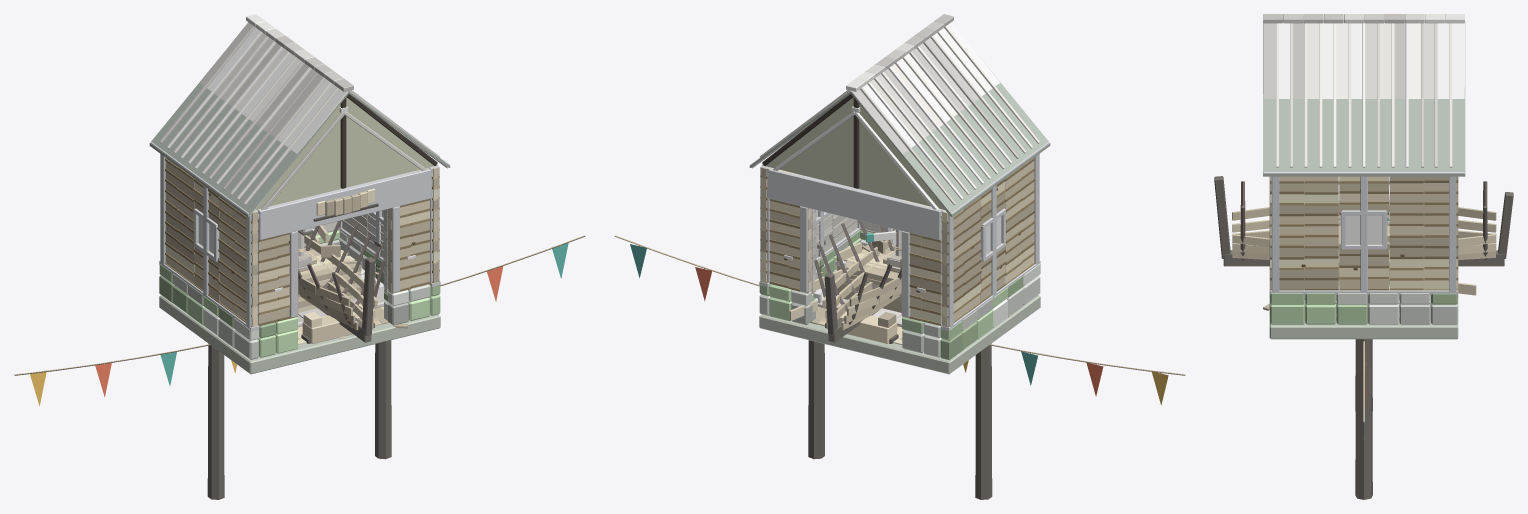
Rendered from kit.glb.
The picture shows the model from 3 angles, left to right: view 1: azimuth 30°, elevation 25°; view 2: azimuth 150°, elevation 25°; view 3: azimuth 270°, elevation 25°; orthographic projection. The views are drawn at different scales.
Parts seen in each view (by area): view 1: timber_shed_roof__tar_roof, timber_shed_roof__bleached_wood, timber_shed_wall_west__raw_plank, timber_shed_base__watch_stone, timber_shed_roof__raw_plank, timber_shed_wall_front__raw_plank, timber_shed_wall_front__pitch_black, pier_section__pitch_black, hull_frame__raw_plank, timber_shed_wall_west__pitch_black, hull_frame__pitch_black, banner_line__sail_canvas (+9 smaller); view 2: timber_shed_roof__tar_roof, timber_shed_roof__bleached_wood, timber_shed_wall_west__raw_plank, timber_shed_base__watch_stone, timber_shed_wall_back__pitch_black, timber_shed_roof__raw_plank, timber_shed_wall_back__raw_plank, pier_section__pitch_black, hull_frame__raw_plank, timber_shed_wall_west__pitch_black, hull_frame__pitch_black, banner_line__sail_canvas (+9 smaller); view 3: timber_shed_roof__tar_roof, timber_shed_wall_east__raw_plank, timber_shed_roof__bleached_wood, timber_shed_base__watch_stone, timber_shed_wall_east__pitch_black, hull_frame__raw_plank, hull_frame__pitch_black, pier_section__pitch_black, timber_shed_wall_east__watch_stone, timber_shed_wall_east__recess_shadow.
Part boxes in pixels (box(x1,y1,x2,y2)): timber_shed_roof__tar_roof: box(149, 22, 450, 217); timber_shed_roof__bleached_wood: box(150, 14, 449, 216); timber_shed_wall_west__raw_plank: box(165, 158, 258, 327); timber_shed_base__watch_stone: box(159, 244, 440, 374); timber_shed_roof__raw_plank: box(255, 97, 437, 209); timber_shed_wall_front__raw_plank: box(257, 168, 430, 326); timber_shed_wall_front__pitch_black: box(257, 168, 431, 317); pier_section__pitch_black: box(207, 240, 391, 499); hull_frame__raw_plank: box(298, 225, 407, 343); timber_shed_wall_west__pitch_black: box(159, 154, 259, 331); hull_frame__pitch_black: box(298, 220, 385, 343); banner_line__sail_canvas: box(30, 243, 568, 405); timber_shed_roof__tar_roof: box(749, 22, 1050, 217); timber_shed_roof__bleached_wood: box(750, 14, 1049, 216); timber_shed_wall_west__raw_plank: box(941, 158, 1034, 327); timber_shed_base__watch_stone: box(759, 245, 1040, 374); timber_shed_wall_back__pitch_black: box(768, 169, 942, 317); timber_shed_roof__raw_plank: box(762, 97, 944, 209); timber_shed_wall_back__raw_plank: box(769, 168, 942, 325); pier_section__pitch_black: box(808, 240, 992, 499); hull_frame__raw_plank: box(789, 239, 901, 343); timber_shed_wall_west__pitch_black: box(940, 154, 1040, 331); hull_frame__pitch_black: box(814, 220, 901, 343); banner_line__sail_canvas: box(630, 244, 1168, 405); timber_shed_roof__tar_roof: box(1263, 21, 1465, 176); timber_shed_wall_east__raw_plank: box(1270, 176, 1458, 290); timber_shed_roof__bleached_wood: box(1263, 14, 1464, 173); timber_shed_base__watch_stone: box(1269, 214, 1458, 339); timber_shed_wall_east__pitch_black: box(1269, 176, 1458, 294); hull_frame__raw_plank: box(1232, 203, 1496, 310); hull_frame__pitch_black: box(1214, 176, 1513, 266); pier_section__pitch_black: box(1355, 295, 1372, 499); timber_shed_wall_east__watch_stone: box(1270, 293, 1457, 304); timber_shed_wall_east__recess_shadow: box(1345, 215, 1382, 243).
Bounding box in the file's own units: 14 × 9.97 × 6.18.
